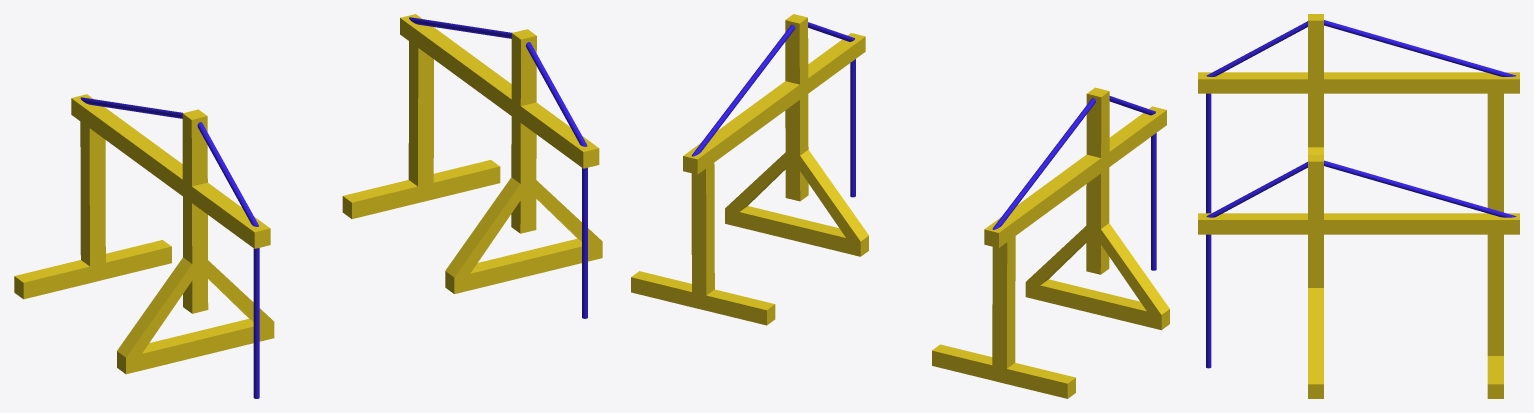
The model's file is ending cleaning gondola.fbx.
The picture shows the model from 3 angles, left to right: view 1: azimuth 30°, elevation 25°; view 2: azimuth 150°, elevation 25°; view 3: azimuth 270°, elevation 25°; orthographic projection. The views are drawn at different scales.
Visible parts, largest first — view 1: Cube, Cylinder.001; view 2: Cube, Cylinder.001; view 3: Cube, Cylinder.001.
Boxes of the visible parts, bbox=[...] form: Cube: bbox=[14, 14, 602, 374]; Cylinder.001: bbox=[80, 17, 587, 398]; Cube: bbox=[631, 14, 1169, 398]; Cylinder.001: bbox=[691, 22, 1156, 270]; Cube: bbox=[1198, 14, 1519, 398]; Cylinder.001: bbox=[1206, 20, 1516, 368].
Bounding box in the file's own units: 450 × 215 × 300.
